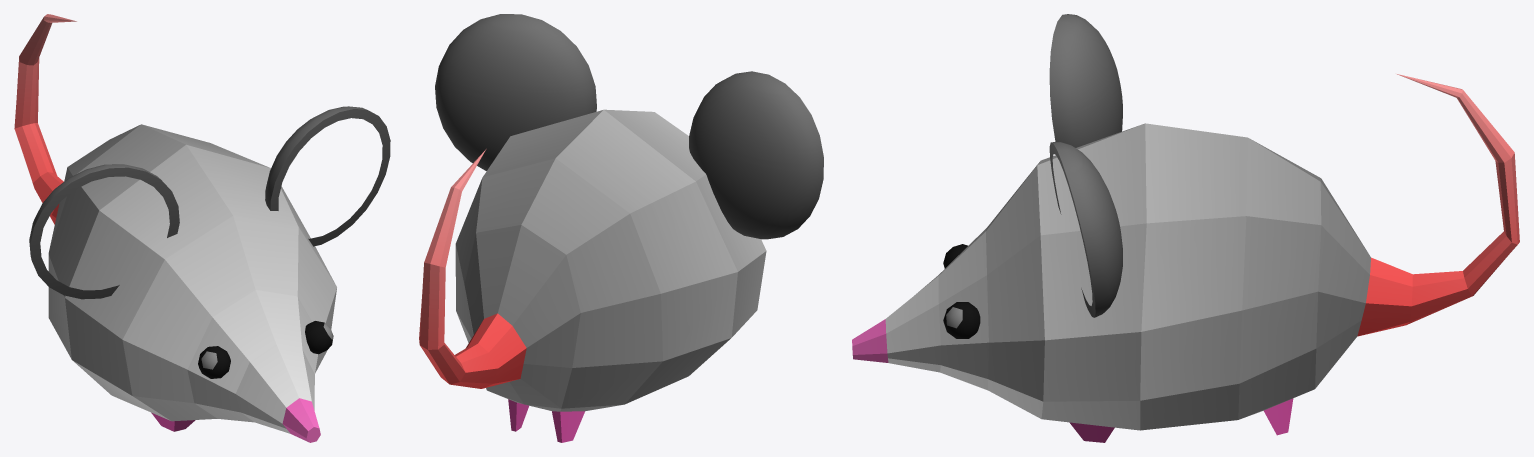
Rendered from Mice.glb.
3 views of the same model, side by side, from view 1: azimuth 30°, elevation 25°; view 2: azimuth 150°, elevation 25°; view 3: azimuth 270°, elevation 25° (orthographic). The views are drawn at different scales.
Parts seen in each view (by area): view 1: Cylinder; view 2: Cylinder; view 3: Cylinder.
Boxes of the visible parts, x1=… form: Cylinder: x1=14, y1=14, x2=390, y2=442; Cylinder: x1=419, y1=14, x2=823, y2=442; Cylinder: x1=852, y1=14, x2=1519, y2=442.
Bounding box in the file's own units: 3.5 × 2.8 × 4.91.
Materials: 1 (1 with a texture image).
